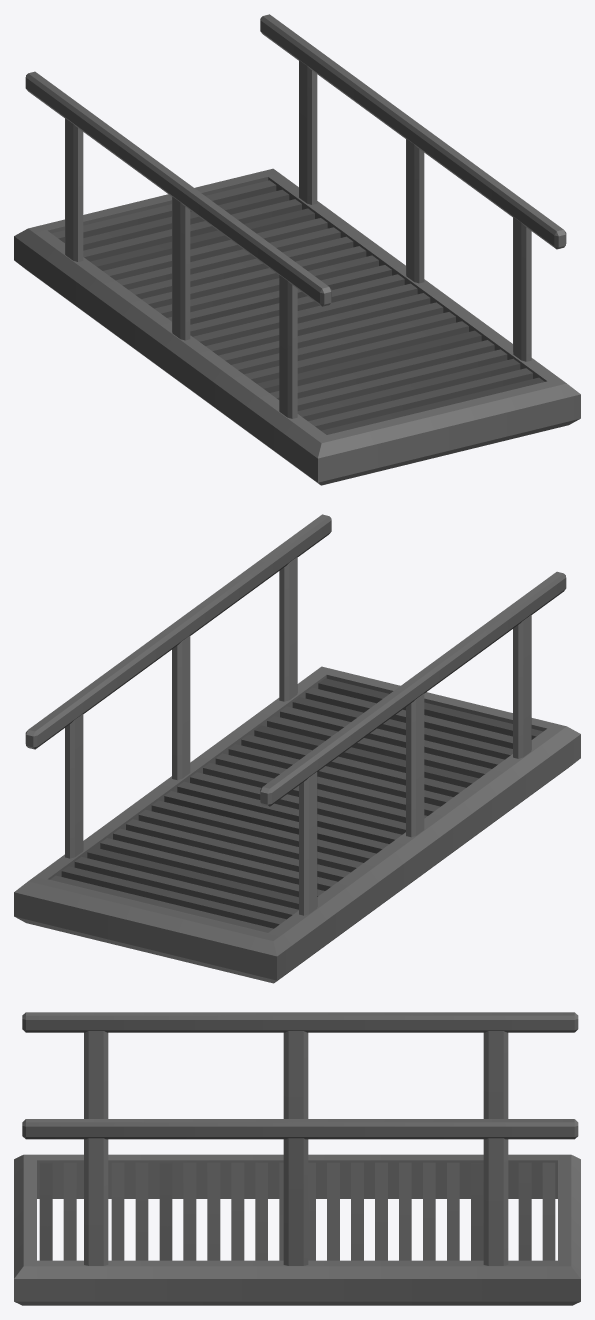
Rendered from Catwalk_1.glb.
3 renders of one model, top to bottom at view 1: azimuth 30°, elevation 25°; view 2: azimuth 150°, elevation 25°; view 3: azimuth 270°, elevation 25°, orthographic. The views are drawn at different scales.
Parts seen in each view (by area): view 1: Catwalk 1; view 2: Catwalk 1; view 3: Catwalk 1.
Boxes of the visible parts, x1=… form: Catwalk 1: x1=14, y1=14, x2=580, y2=485; Catwalk 1: x1=14, y1=514, x2=580, y2=983; Catwalk 1: x1=14, y1=1012, x2=580, y2=1305.
Size of the model in its own units: 2 by 1.42 by 4.
Materials: 1 (1 with a texture image).
